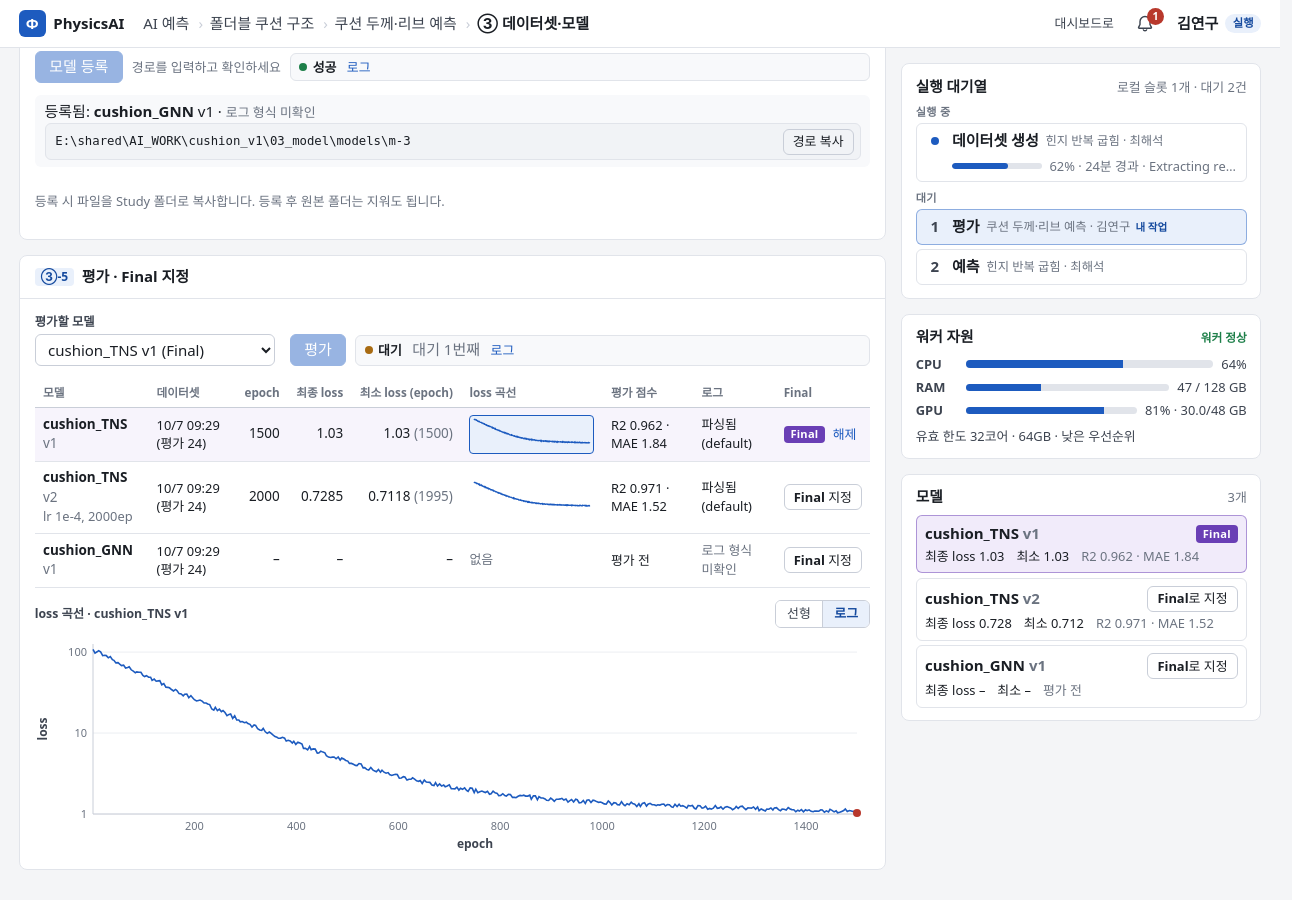
Test case: ③ 화면 (V-FE-5) › loss 곡선 선형/로그 토글
(page scrolled)
Click the button "선형" at [799, 614], box [776,600,822,627]
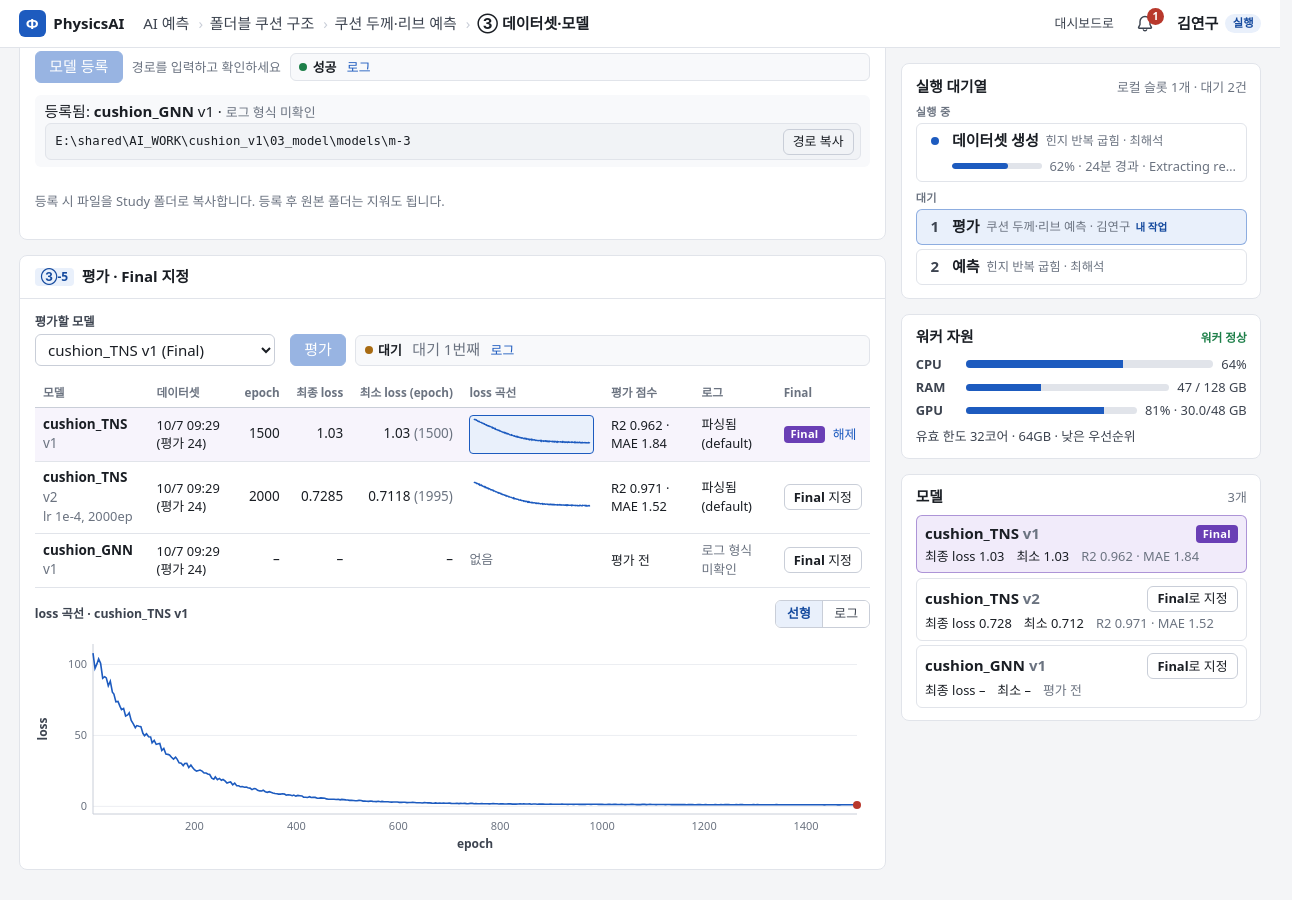
Expected: the picture named "loss 곡선" is shown, [35,634,871,854]
Result: the button "선형" has class "on" at [776,600,822,627]
